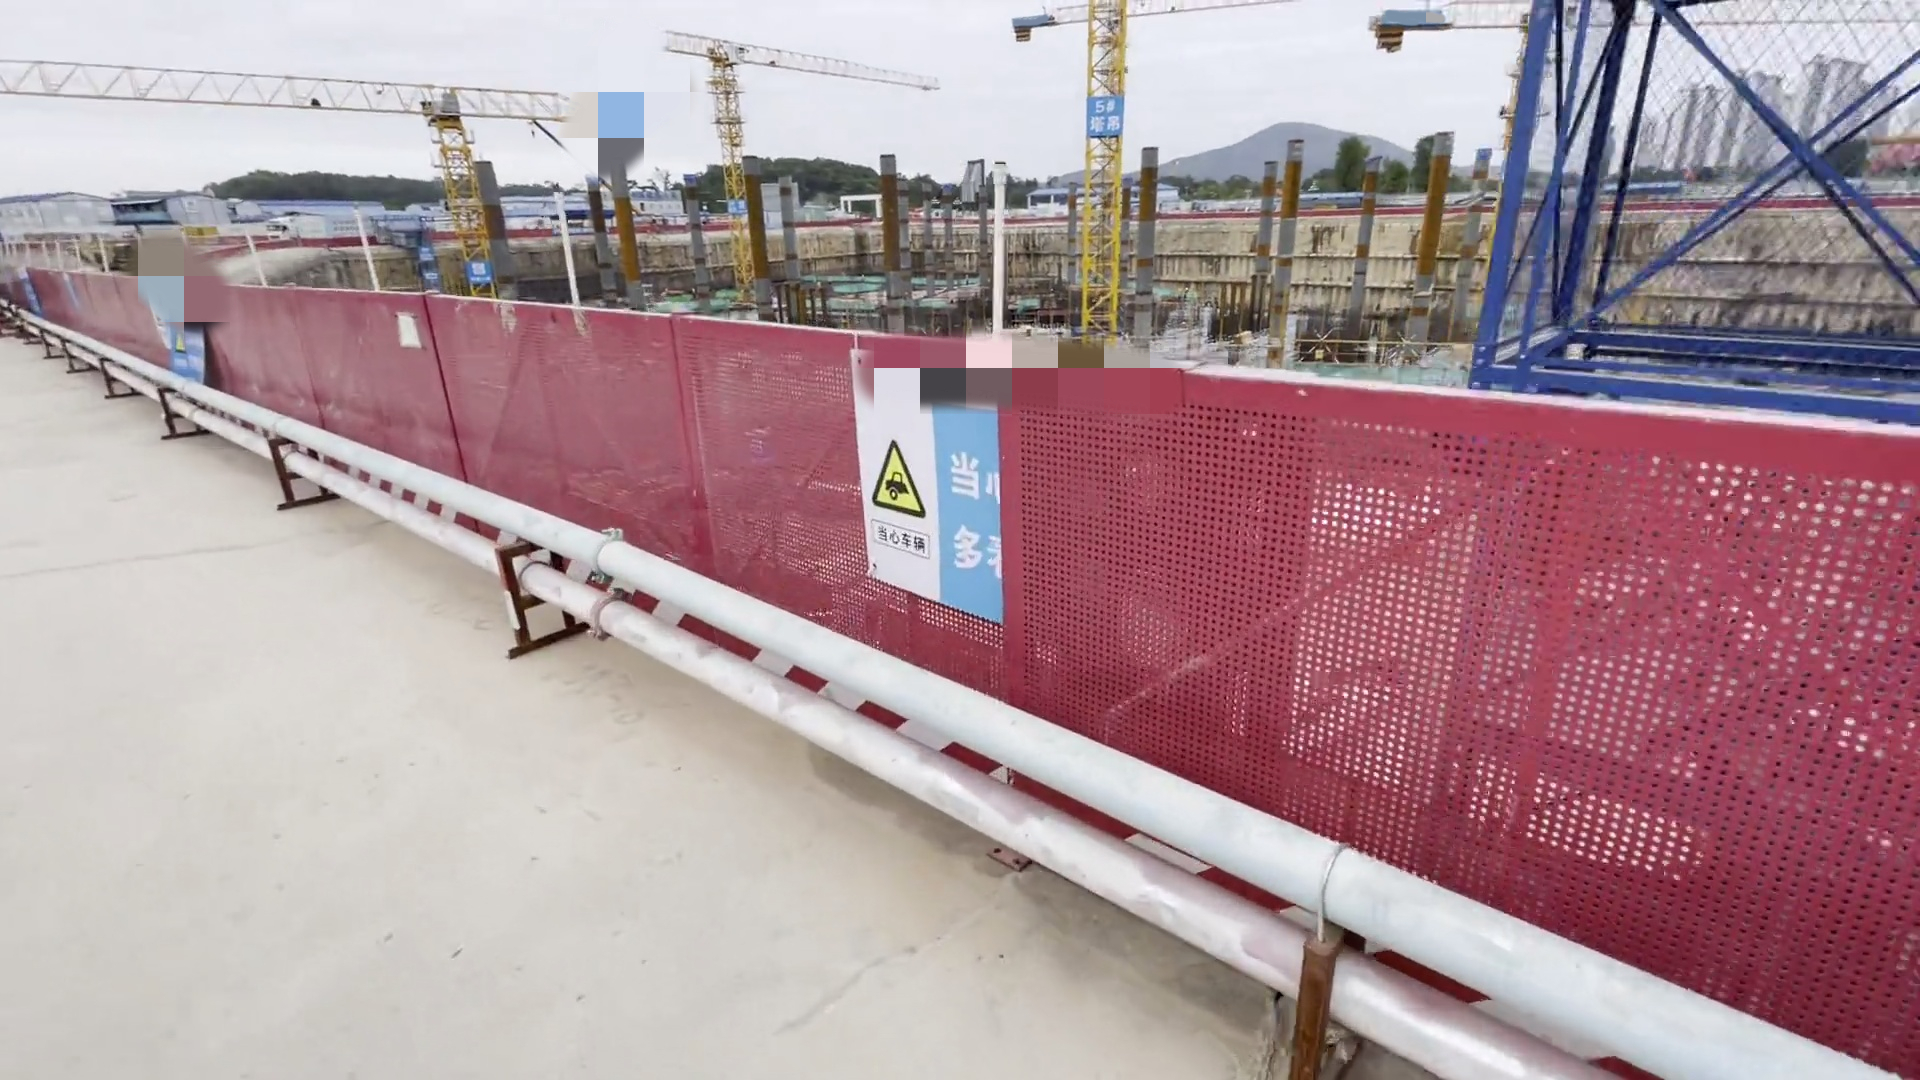fence: (30, 256, 1869, 1039)
slogan: (837, 356, 1031, 651), (138, 295, 208, 386), (3, 261, 61, 338), (409, 235, 446, 299), (1083, 92, 1129, 137), (465, 257, 505, 289)
